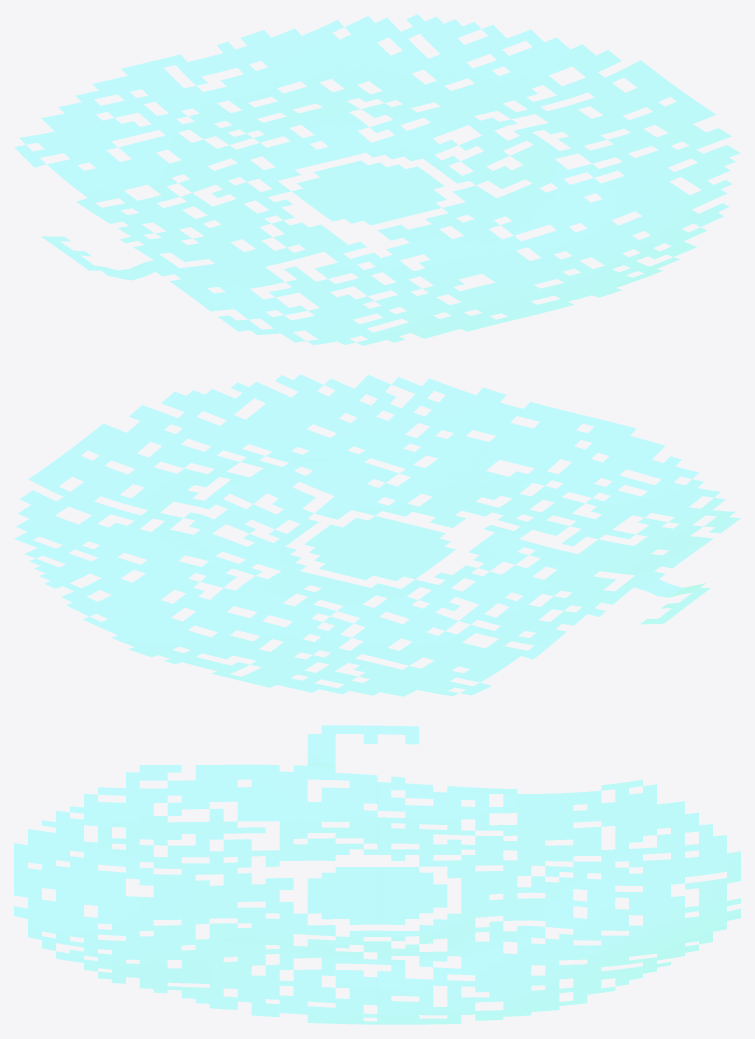
File: navmesh_stage_3_closed.glb
The picture shows the model from 3 angles, top to bottom: view 1: azimuth 30°, elevation 25°; view 2: azimuth 150°, elevation 25°; view 3: azimuth 270°, elevation 25°; orthographic projection. The views are drawn at different scales.
Parts seen in each view (by area): view 1: navmesh_stage_3_closed; view 2: navmesh_stage_3_closed; view 3: navmesh_stage_3_closed.
Boxes of the visible parts, x1,y1,x2,y2 form: navmesh_stage_3_closed: [14, 14, 739, 345]; navmesh_stage_3_closed: [14, 374, 739, 696]; navmesh_stage_3_closed: [14, 725, 740, 1024].
Bounding box in the file's own units: 91 × 4.93 × 91.
